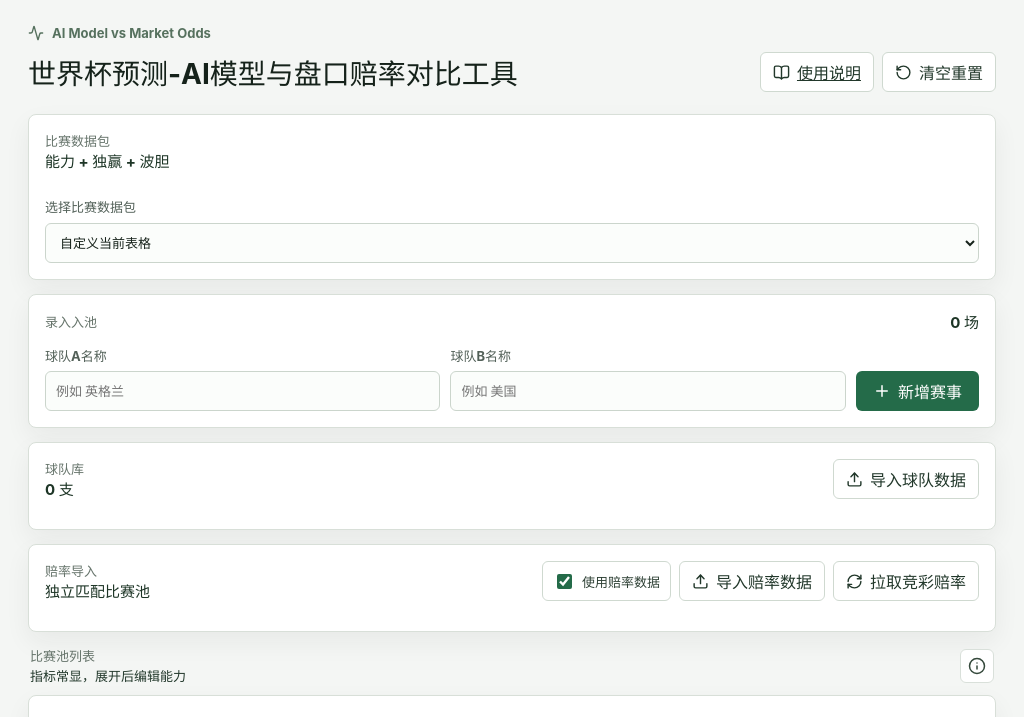
Test case: App › keeps score-board strategy filters in the recommended order after selecting a match
This screenshot has width=1024, height=717.
In the field labelled "球队A名称": (243, 391) [45,371,440,411], type "英格兰"
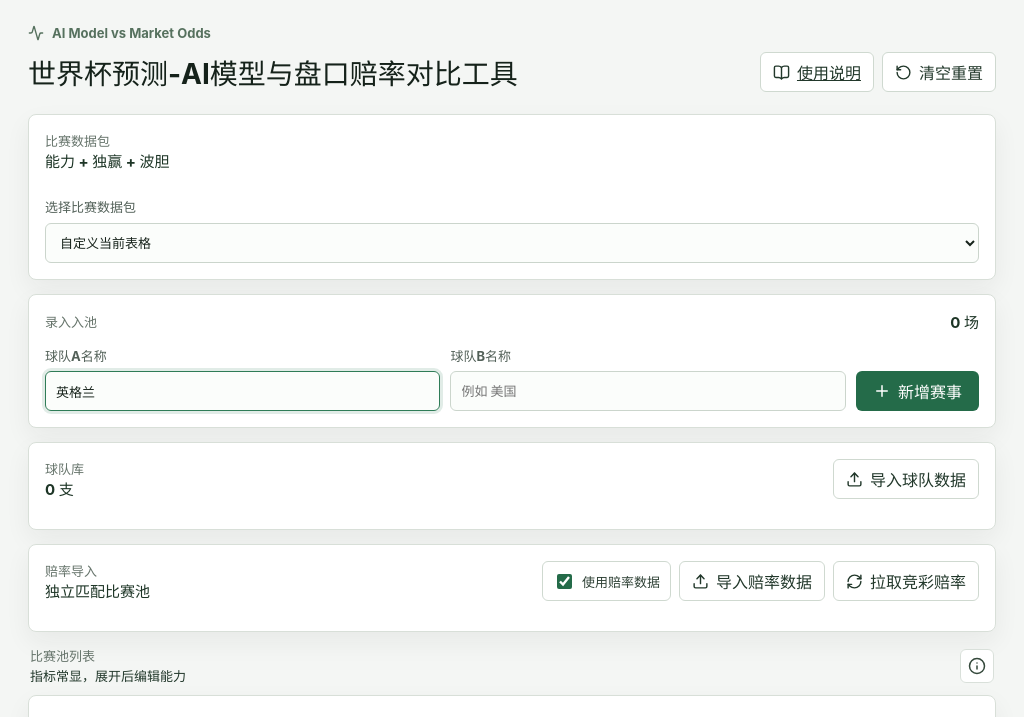
In the field labelled "球队B名称": (648, 391) [450,371,846,411], type "美国"
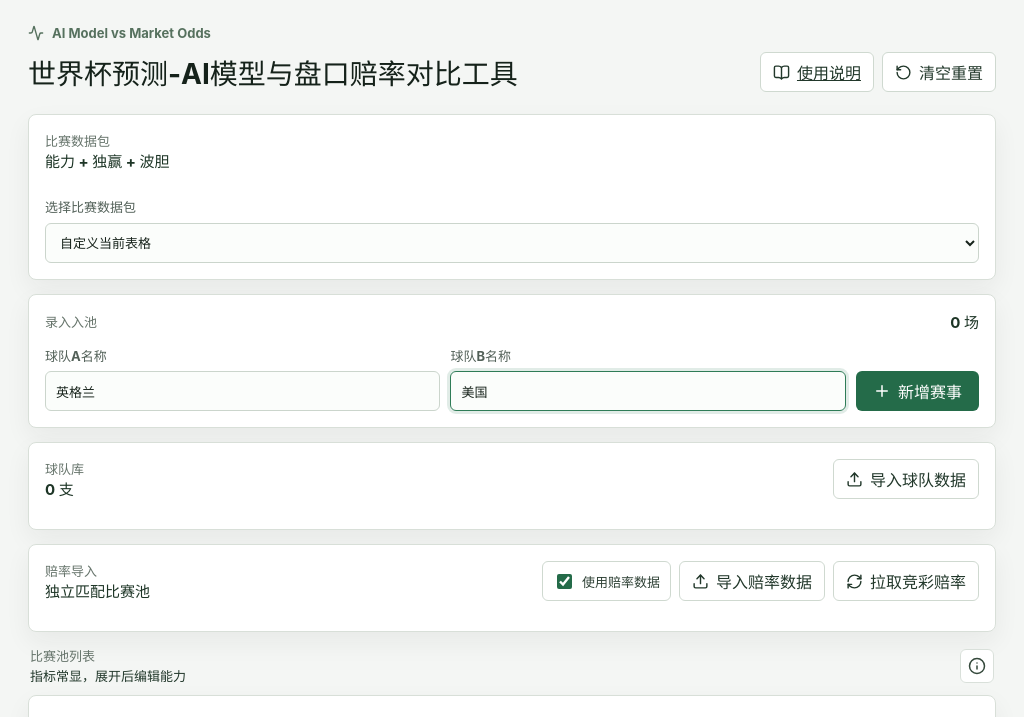
Click the button "新增赛事": (918, 391) [856,371,979,411]
(page scrolled)
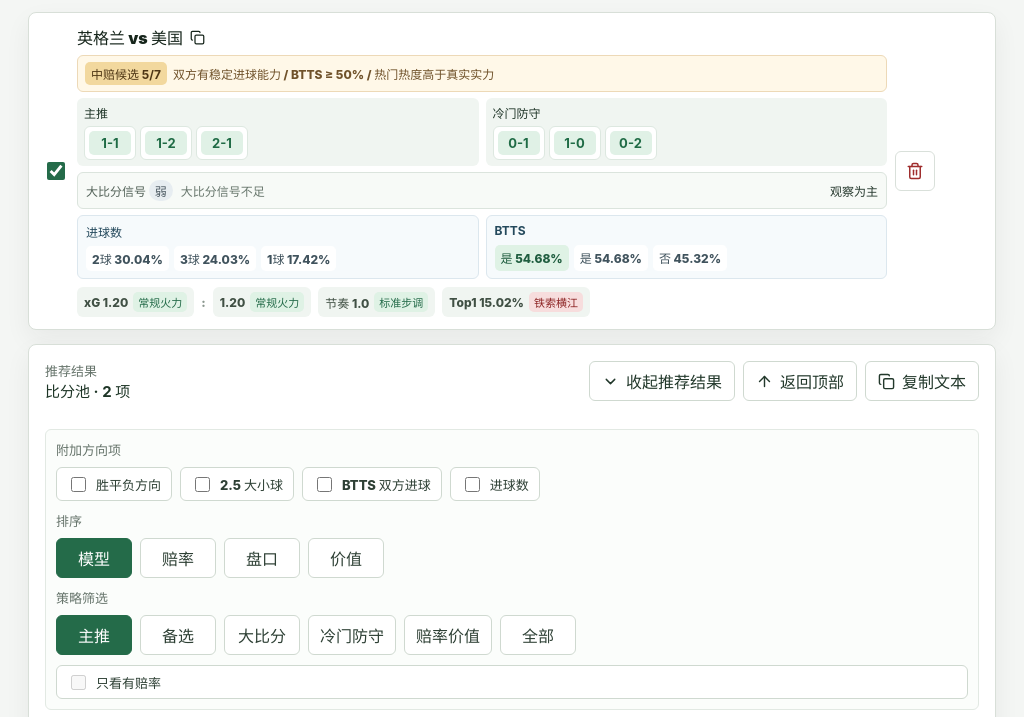
Now the button "返回顶部" is shown, box [743,361,857,401]
